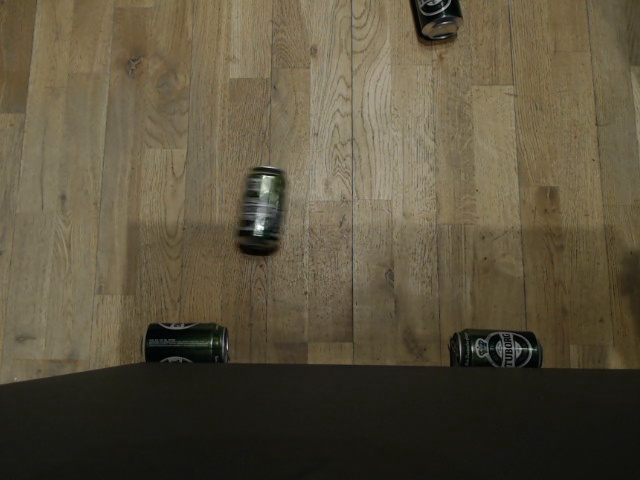beer: (233, 165, 284, 253)
